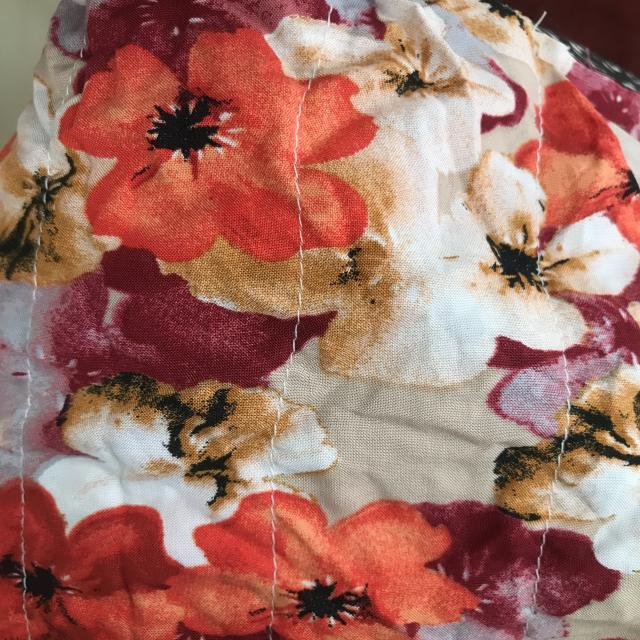good: (287, 175, 326, 316), (11, 488, 44, 624), (523, 536, 563, 616), (265, 494, 283, 600)
